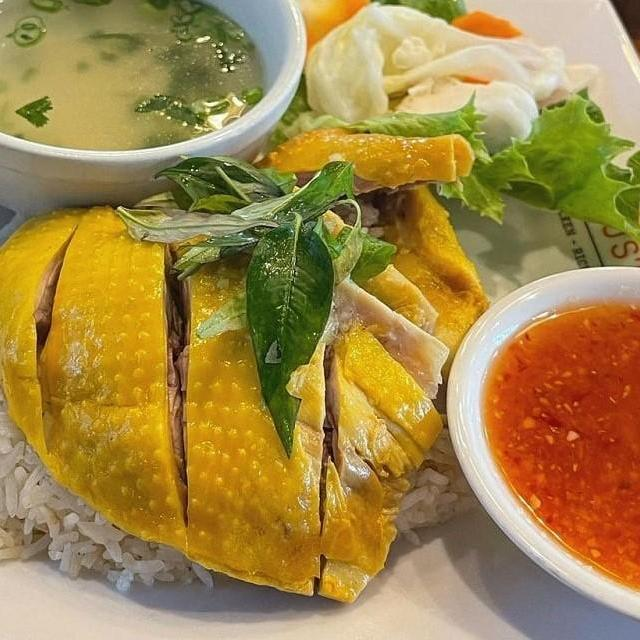com: (38, 471, 222, 601), (0, 328, 62, 570), (382, 409, 479, 550)
com ga: (0, 57, 486, 640)
rau ram: (107, 150, 400, 464)
thit ga: (152, 195, 454, 610), (28, 197, 198, 560), (0, 202, 93, 467), (248, 121, 481, 219)
